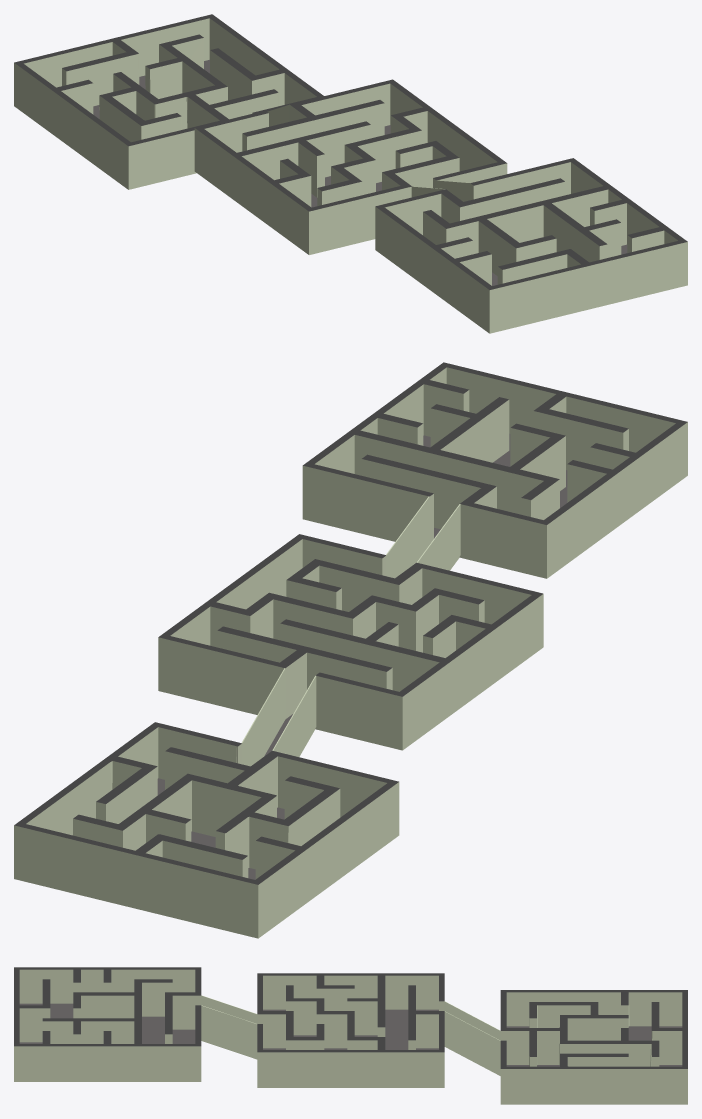
The model's file is Maze-3levels.dae.
The picture shows the model from 3 angles, top to bottom: view 1: azimuth 30°, elevation 25°; view 2: azimuth 150°, elevation 25°; view 3: azimuth 270°, elevation 25°; orthographic projection. The views are drawn at different scales.
Parts seen in each view (by area): view 1: Curve_002; view 2: Curve_002; view 3: Curve_002.
Part boxes in pixels (box(x1,y1,x2,y2)): Curve_002: box(14, 14, 687, 333); Curve_002: box(14, 362, 687, 938); Curve_002: box(14, 967, 687, 1104).
Size of the model in its own units: 13.2 by 36 by 4.92.
